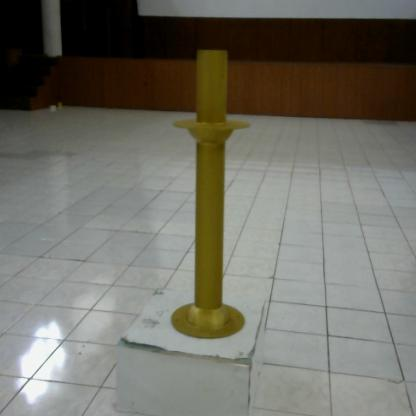pole: (168, 44, 254, 349)
